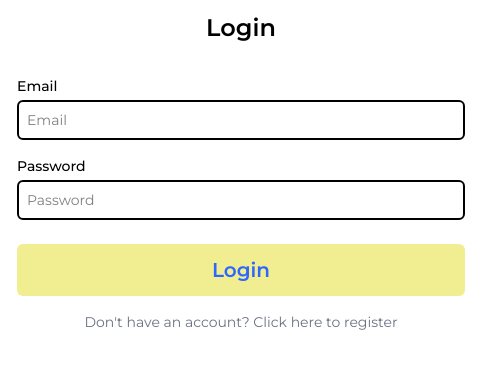
LoginView › should display error message if password is too short
This screenshot has width=483, height=387.
Type "short" into the password field with placeholder "Password". click: (241, 200)
box: [17,180,465,220]
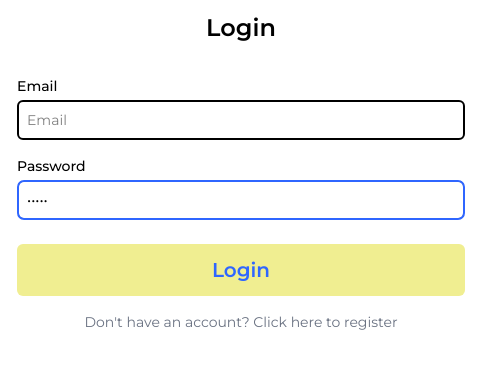
Click the button "Login". click: (241, 270)
box: [17,244,465,296]
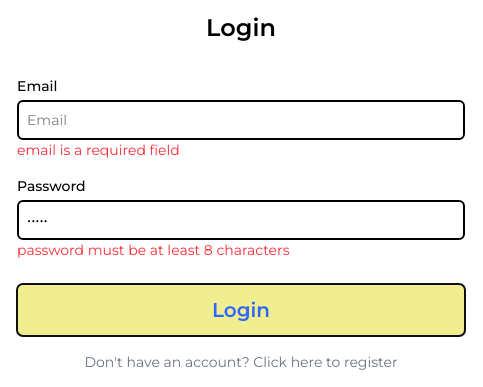
Expected: the text "password must be at least 8 characters" is shown, [17,241,290,259]
